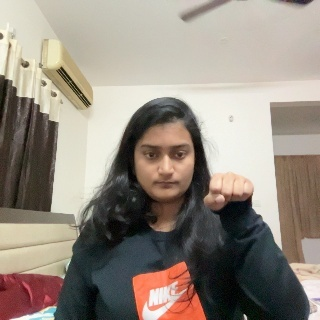Face: (133, 119, 196, 207)
Yes: (206, 173, 258, 248)
